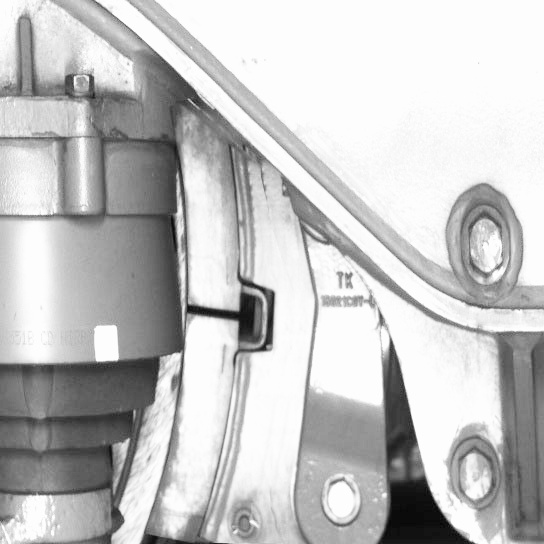ClosedKnifeSwitch: (140, 139, 261, 540)
